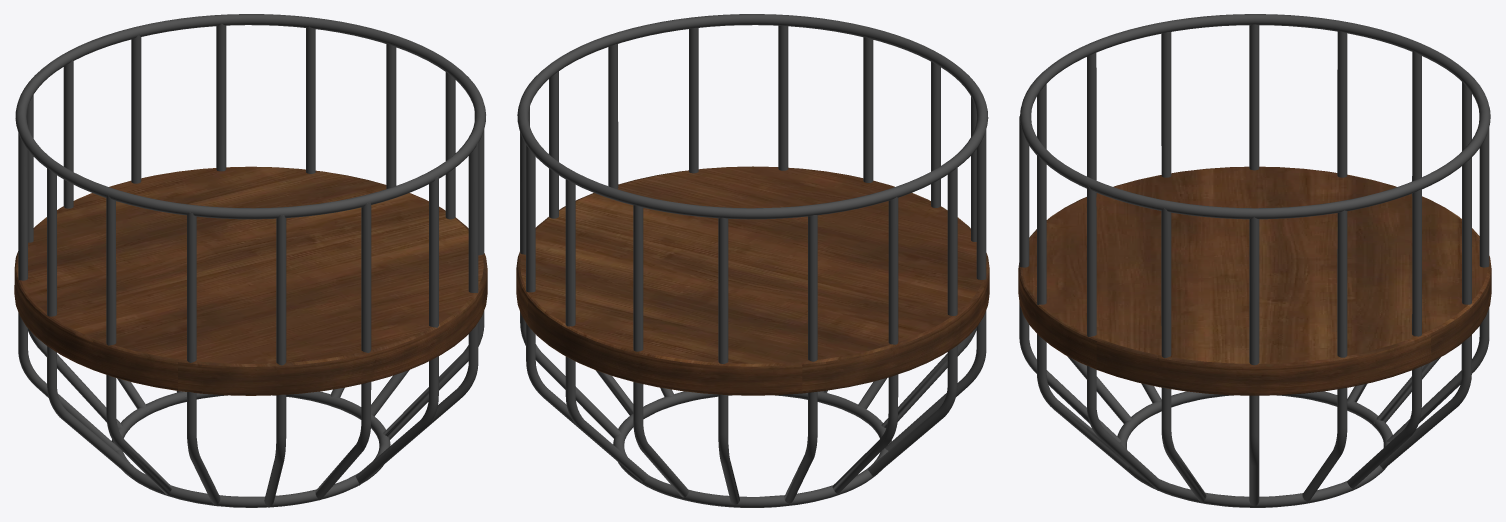
File: side table_1_1_processed.glb
3 renders of one model, left to right at view 1: azimuth 30°, elevation 25°; view 2: azimuth 150°, elevation 25°; view 3: azimuth 270°, elevation 25°, orthographic.
Visible parts, largest first — view 1: Cylinder003_1, Circle005_0; view 2: Cylinder003_1, Circle005_0; view 3: Cylinder003_1, Circle005_0.
Part boxes in pixels (box(x1,y1,x2,y2)): Cylinder003_1: box(14, 166, 487, 395); Circle005_0: box(15, 14, 485, 507); Cylinder003_1: box(516, 166, 989, 395); Circle005_0: box(517, 14, 988, 507); Cylinder003_1: box(1018, 166, 1491, 395); Circle005_0: box(1019, 14, 1490, 507).
Size of the model in its own units: 12484 by 9873 by 12484.
2 materials, 1 textured.
